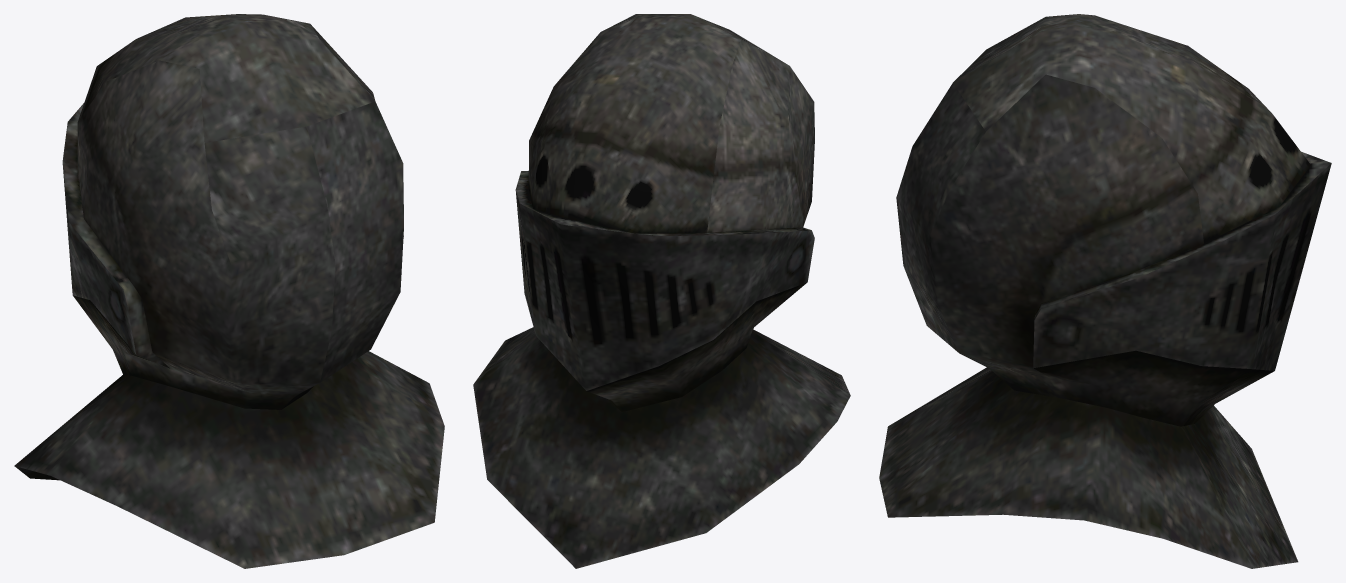
File: armour_nice_head.dae
3 renders of one model, left to right at view 1: azimuth 30°, elevation 25°; view 2: azimuth 150°, elevation 25°; view 3: azimuth 270°, elevation 25°, orthographic. The views are drawn at different scales.
Parts seen in each view (by area): view 1: Scene_Root; view 2: Scene_Root; view 3: Scene_Root.
Boxes of the visible parts, bbox=[...] form: Scene_Root: bbox=[14, 14, 444, 568]; Scene_Root: bbox=[473, 14, 850, 568]; Scene_Root: bbox=[879, 14, 1331, 568].
Bounding box in the file's own units: 0.3874 × 0.4068 × 0.5317.
